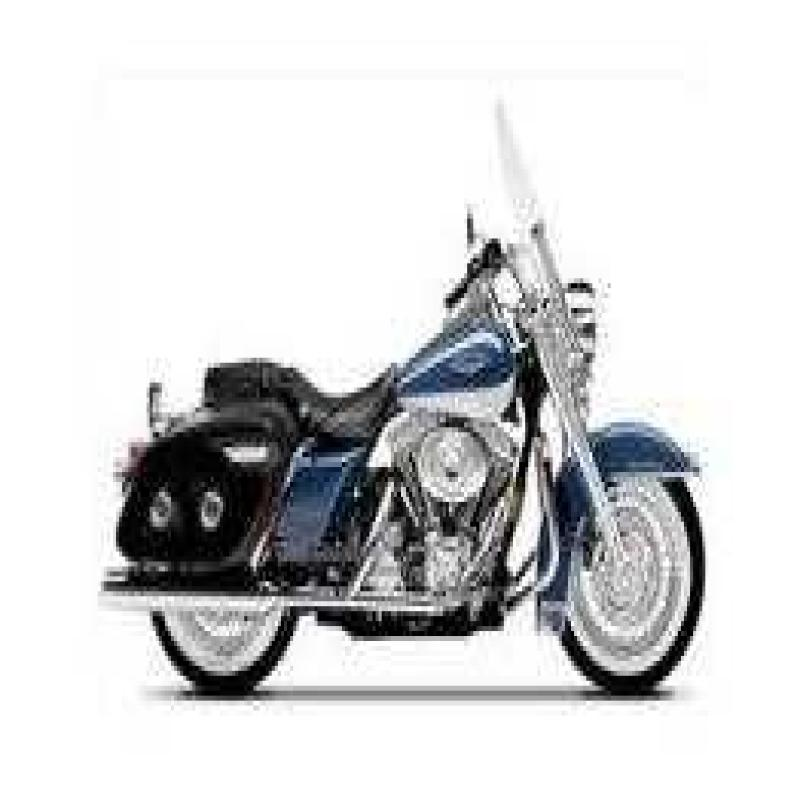bike: (71, 52, 698, 709)
